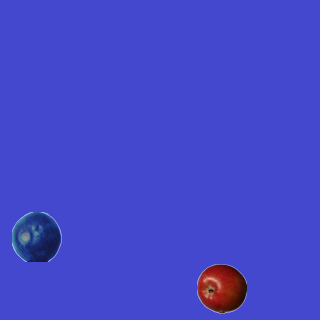Apple Braeburn: (196, 263, 246, 313)
Huckleberry: (11, 211, 61, 261)
